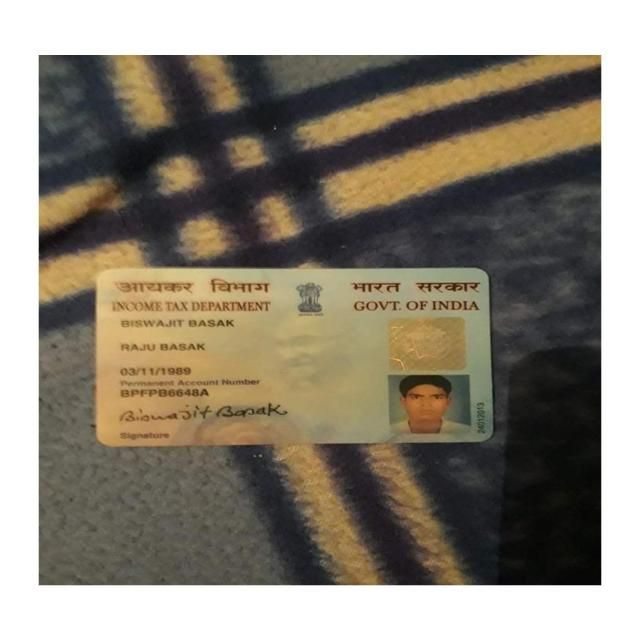pan_card: (98, 268, 493, 446)
